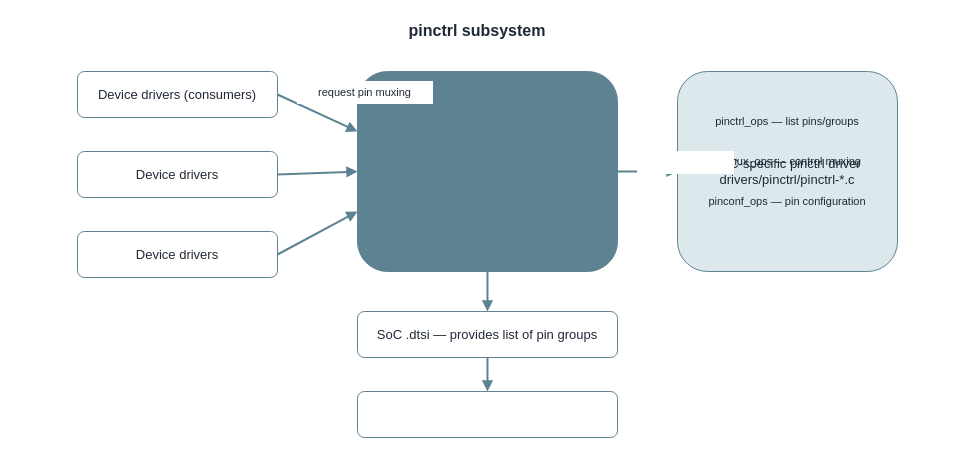
The diagram is 954 pixels wide and 455 high, and some of its shapes have lost their labels. The box of each missing label's shape, as (x1, y1, x2, y2) in pixels:
Board .dts — associations pin groups ↔ devices: (356, 390, 618, 438)
Pinctrl subsystem core drivers/pinctrl/{core,devicetree, pinconf,pinmux}.c: (356, 70, 618, 272)
pinctrl_desc: (636, 150, 734, 174)
